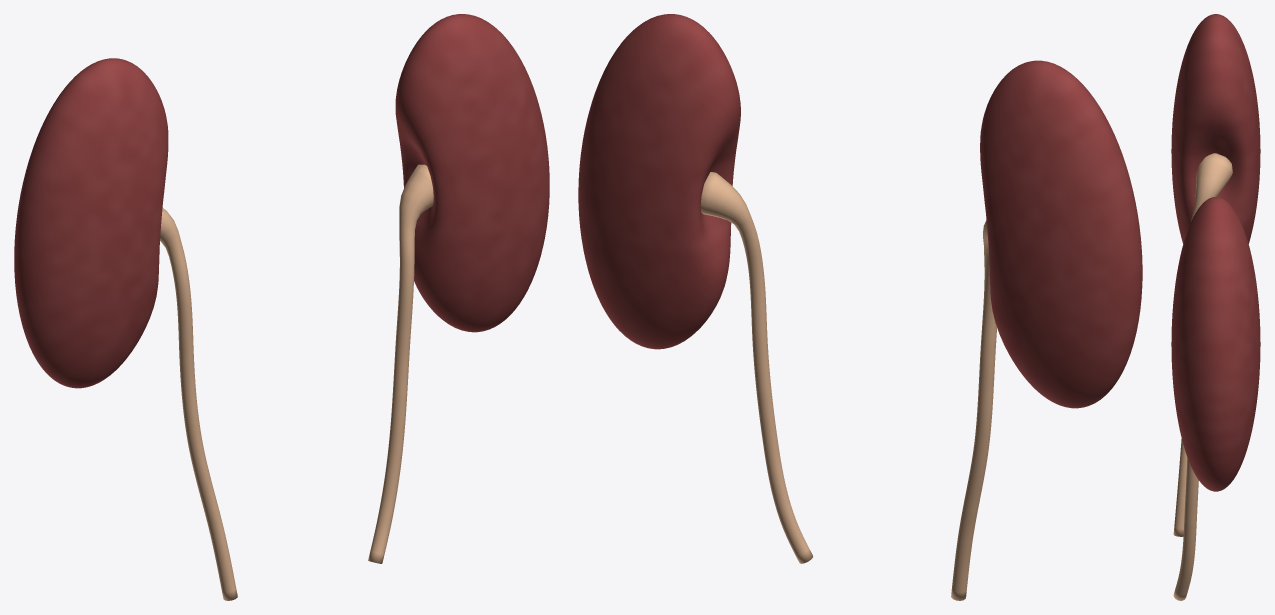
File: innerscene-kidneys.glb
3 views of the same model, side by side, from view 1: azimuth 30°, elevation 25°; view 2: azimuth 150°, elevation 25°; view 3: azimuth 270°, elevation 25° (orthographic). The views are drawn at different scales.
Visible parts, largest first — view 1: Left kidney with hilar concavity, Right kidney with hilar concavity, Right renal pelvis and connected ureter, Left renal pelvis and connected ureter; view 2: Left kidney with hilar concavity, Right kidney with hilar concavity, Right renal pelvis and connected ureter, Left renal pelvis and connected ureter; view 3: Right kidney with hilar concavity, Left kidney with hilar concavity, Left renal pelvis and connected ureter, Right renal pelvis and connected ureter.
Part boxes in pixels (box(x1,y1,x2,y2)): Left kidney with hilar concavity: box(14, 58, 168, 388); Right kidney with hilar concavity: box(395, 14, 549, 332); Right renal pelvis and connected ureter: box(368, 164, 433, 563); Left renal pelvis and connected ureter: box(160, 208, 237, 600); Left kidney with hilar concavity: box(980, 60, 1142, 408); Right kidney with hilar concavity: box(578, 14, 740, 349); Right renal pelvis and connected ureter: box(700, 172, 812, 563); Left renal pelvis and connected ureter: box(951, 220, 996, 600); Right kidney with hilar concavity: box(1171, 197, 1260, 491); Left kidney with hilar concavity: box(1171, 14, 1260, 243); Left renal pelvis and connected ureter: box(1173, 153, 1232, 536); Right renal pelvis and connected ureter: box(1173, 458, 1198, 600).
Size of the model in its own units: 0.1897 by 0.189 by 0.032.
Materials: 2 (2 with a texture image).
